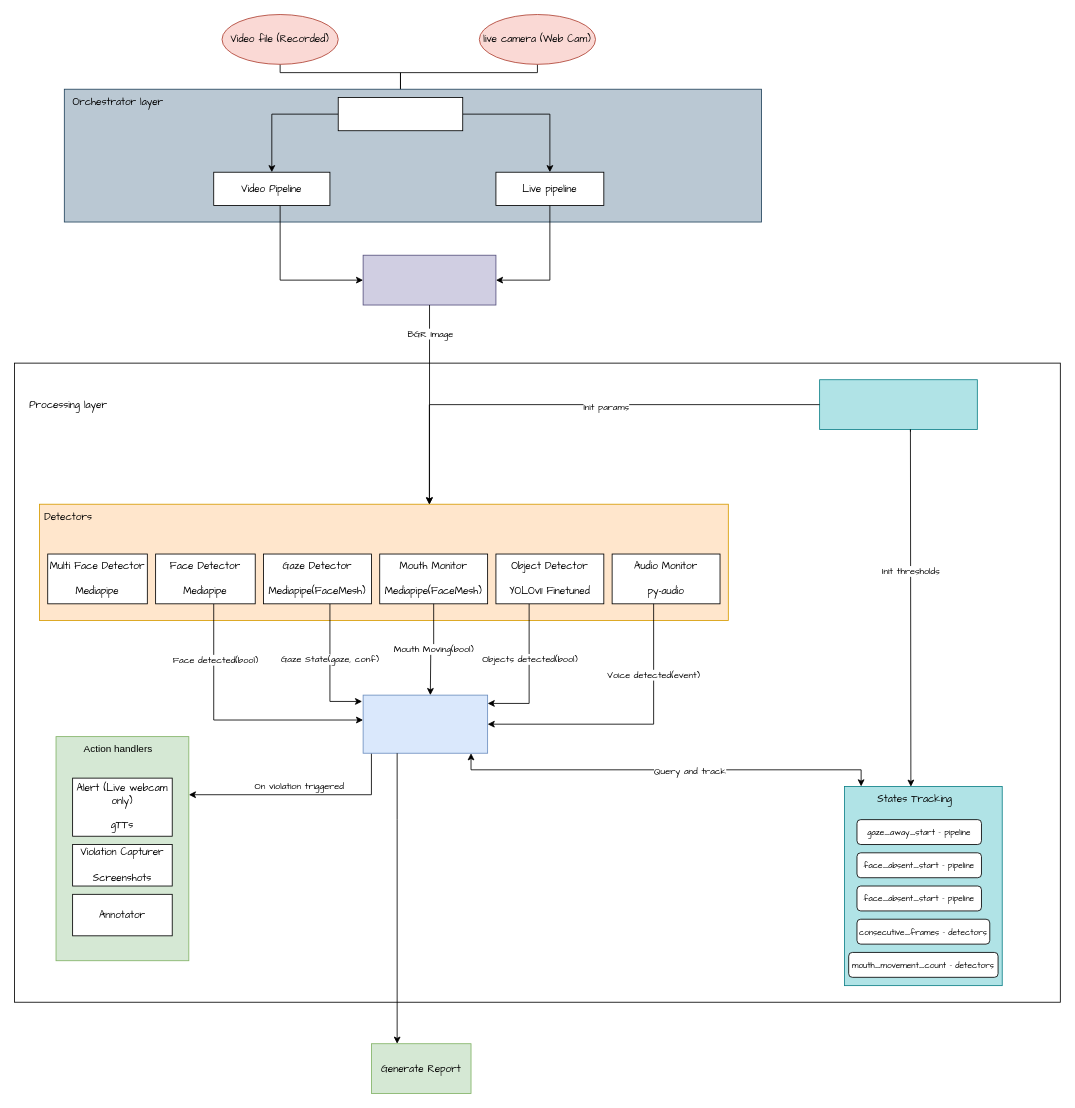
This 1075x1108 diagram has some shape labels left out. The shapes that lost their labels are listed below. From the top down, each one's centre as x and y in pixels, then its label:
At pixel 400 114: "ExamProctor".
At pixel 429 279: "Frame Extractor(Open CV)".
At pixel 898 404: "Configuration/Threshold config.yaml - AppConfig".
At pixel 425 723: "Violation evaluatoion inline if/else logic pipelines".
